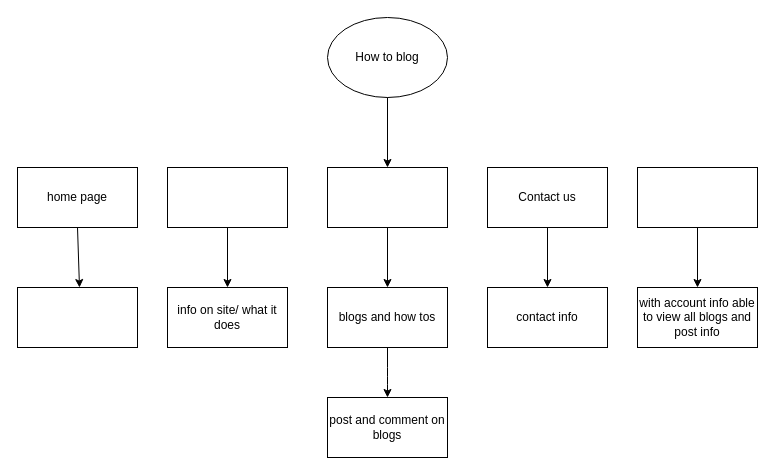
The diagram is 775 pixels wide and 475 high, and some of its shapes have lost their labels. Each missing label, with the box of its shape:
about: (166, 166, 288, 228)
Blogs: (326, 166, 448, 228)
Log in: (636, 166, 758, 228)
News and important updates: (16, 286, 138, 348)
